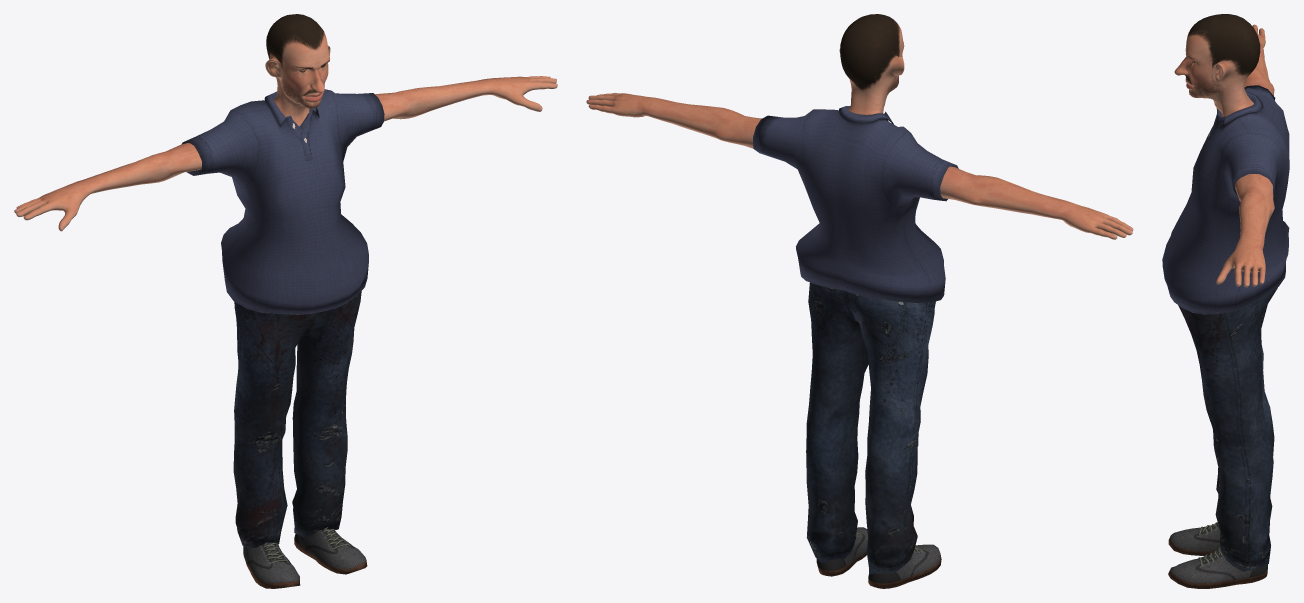
File: cirkinadam1.obj
3 renders of one model, left to right at view 1: azimuth 30°, elevation 25°; view 2: azimuth 150°, elevation 25°; view 3: azimuth 270°, elevation 25°, orthographic.
Visible parts, largest first — view 1: Tops, Bottoms, Body, Shoes; view 2: Bottoms, Tops, Body, Shoes; view 3: Tops, Bottoms, Body, Shoes.
Part boxes in pixels (<box>): Tops: <box>181,89,384,314</box>; Bottoms: <box>233,291,361,548</box>; Body: <box>14,14,557,231</box>; Shoes: <box>243,527,367,588</box>; Bottoms: <box>806,282,935,574</box>; Tops: <box>753,106,958,302</box>; Body: <box>586,14,1133,239</box>; Shoes: <box>816,527,941,588</box>; Tops: <box>1162,85,1289,314</box>; Bottoms: <box>1178,287,1277,571</box>; Body: <box>1174,14,1274,287</box>; Shoes: <box>1168,522,1267,588</box>.
Size of the model in its own units: 176 by 170 by 35.81.
Materials: 4 (4 with a texture image).
